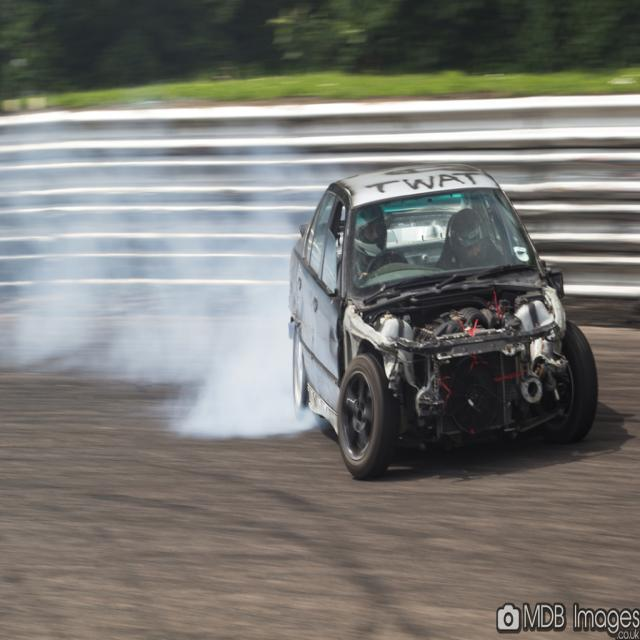car: (285, 159, 599, 478)
